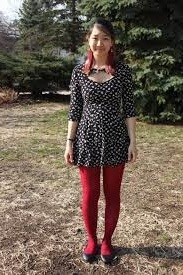not_fallen: (60, 15, 149, 270)
